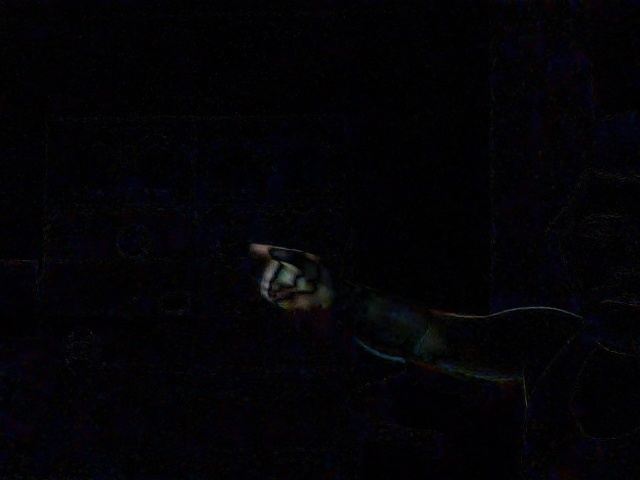hand_po: (248, 230, 340, 320)
